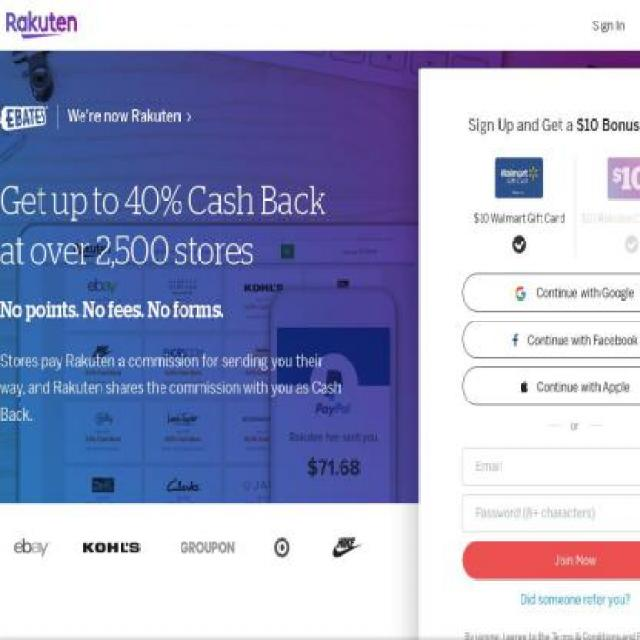button: (462, 366, 640, 406), (462, 274, 640, 312), (462, 320, 640, 358), (94, 12, 208, 50), (343, 12, 429, 50), (468, 12, 550, 50), (575, 9, 639, 43), (248, 12, 303, 50), (0, 12, 55, 49), (589, 12, 640, 51), (6, 28, 77, 43), (187, 109, 191, 125)
field: (462, 447, 640, 487), (462, 494, 640, 534), (462, 542, 640, 580)
